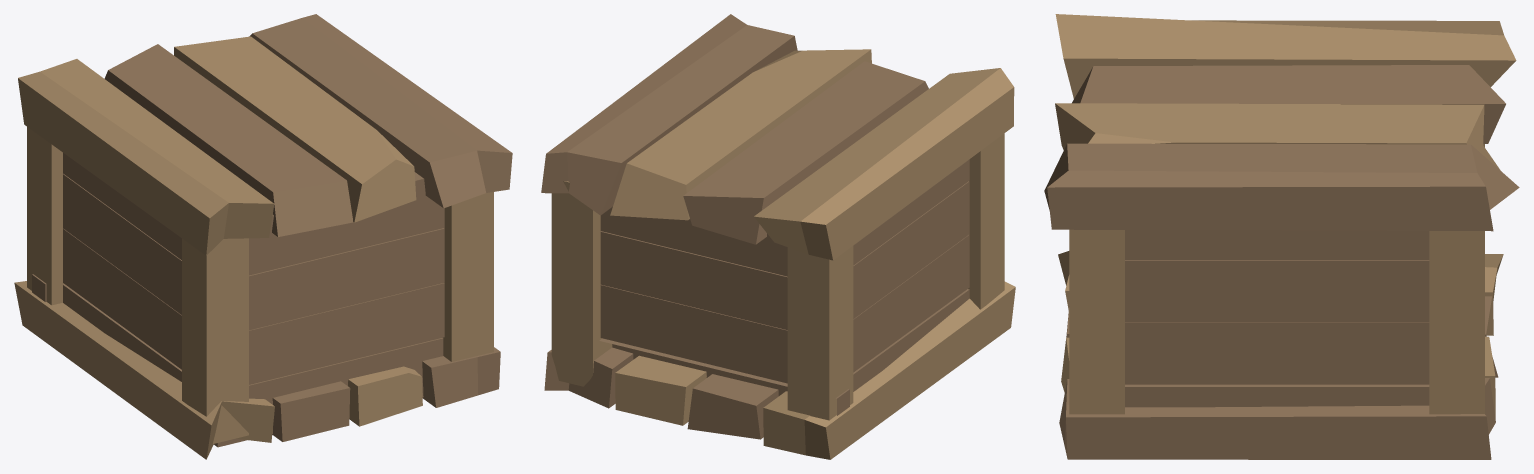
File: Box_Shatter.fbx
The picture shows the model from 3 angles, left to right: view 1: azimuth 30°, elevation 25°; view 2: azimuth 150°, elevation 25°; view 3: azimuth 270°, elevation 25°; orthographic projection. The views are drawn at different scales.
Parts seen in each view (by area): view 1: Box.Shatter.004, Box.Shatter.001, Box.Shatter.003, Box.Shatter.002, Box.Shatter.023, Box.Shatter.017, Box.Shatter.025, Box.Shatter.026, Box.Shatter.028, Box.Shatter.020, Box.Shatter.021, Box.Shatter.024 (+7 smaller); view 2: Box.Shatter.004, Box.Shatter.001, Box.Shatter.003, Box.Shatter.002, Box.Shatter.017, Box.Shatter.018, Box.Shatter.012, Box.Shatter.013, Box.Shatter.009, Box.Shatter.020, Box.Shatter.021, Box.Shatter.023 (+7 smaller); view 3: Box.Shatter.001, Box.Shatter.014, Box.Shatter.004, Box.Shatter.005, Box.Shatter.007, Box.Shatter.002, Box.Shatter.003, Box.Shatter.028, Box.Shatter.009, Box.Shatter.006, Box.Shatter.008, Box.Shatter.017 (+1 smaller).
Part boxes in pixels (left/top/right/bottom): Box.Shatter.004: left=18, top=59, right=274, bottom=255; Box.Shatter.001: left=249, top=14, right=512, bottom=208; Box.Shatter.003: left=104, top=44, right=353, bottom=236; Box.Shatter.002: left=174, top=36, right=416, bottom=222; Box.Shatter.023: left=182, top=238, right=248, bottom=443; Box.Shatter.017: left=14, top=281, right=274, bottom=459; Box.Shatter.025: left=249, top=228, right=444, bottom=330; Box.Shatter.026: left=249, top=283, right=444, bottom=384; Box.Shatter.028: left=443, top=192, right=493, bottom=361; Box.Shatter.020: left=63, top=174, right=181, bottom=314; Box.Shatter.021: left=63, top=228, right=181, bottom=369; Box.Shatter.024: left=249, top=172, right=444, bottom=275; Box.Shatter.004: left=754, top=68, right=1014, bottom=260; Box.Shatter.001: left=541, top=14, right=797, bottom=215; Box.Shatter.003: left=683, top=61, right=928, bottom=244; Box.Shatter.002: left=610, top=49, right=871, bottom=220; Box.Shatter.017: left=763, top=281, right=1015, bottom=459; Box.Shatter.018: left=787, top=246, right=853, bottom=420; Box.Shatter.012: left=600, top=231, right=787, bottom=329; Box.Shatter.013: left=600, top=284, right=787, bottom=383; Box.Shatter.009: left=551, top=181, right=612, bottom=386; Box.Shatter.020: left=853, top=181, right=969, bottom=318; Box.Shatter.021: left=853, top=234, right=969, bottom=372; Box.Shatter.023: left=968, top=133, right=1004, bottom=309; Box.Shatter.001: left=1044, top=143, right=1519, bottom=231; Box.Shatter.014: left=1059, top=378, right=1495, bottom=459; Box.Shatter.004: left=1055, top=14, right=1516, bottom=98; Box.Shatter.005: left=1125, top=260, right=1429, bottom=322; Box.Shatter.007: left=1125, top=322, right=1429, bottom=384; Box.Shatter.002: left=1055, top=103, right=1500, bottom=170; Box.Shatter.003: left=1072, top=65, right=1505, bottom=143; Box.Shatter.028: left=1069, top=229, right=1124, bottom=414; Box.Shatter.009: left=1429, top=231, right=1484, bottom=414; Box.Shatter.006: left=1125, top=230, right=1429, bottom=260; Box.Shatter.008: left=1125, top=384, right=1429, bottom=407; Box.Shatter.017: left=1058, top=251, right=1503, bottom=335.
Size of the model in its own units: 78.12 by 64.66 by 94.83.
